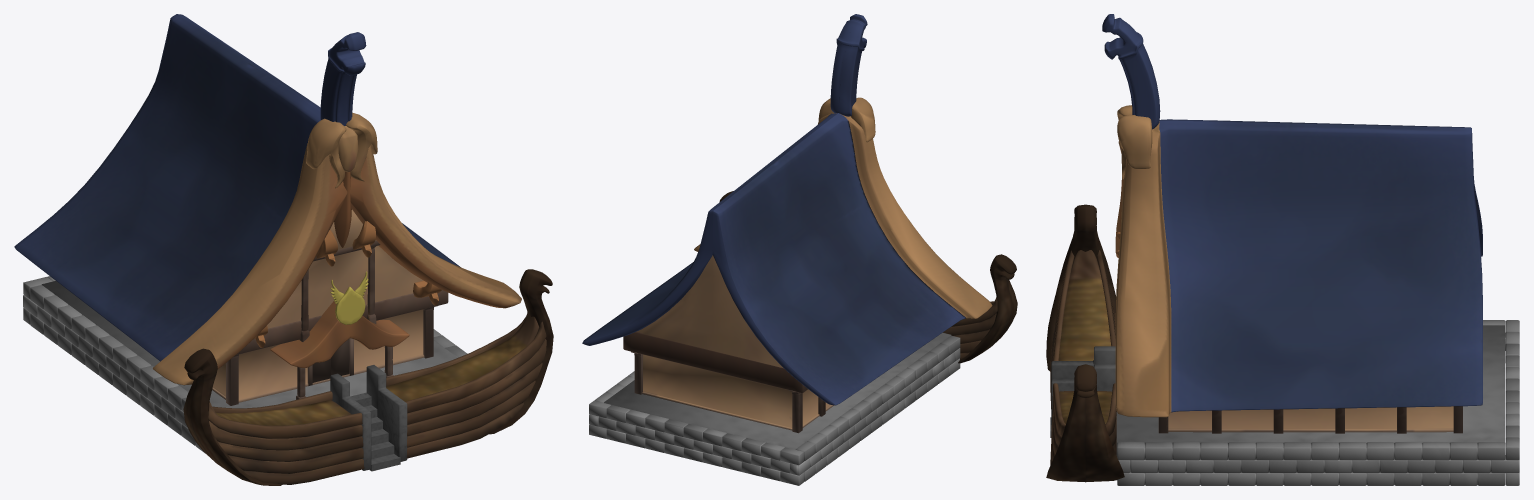
File: GladsheimHall.glb
The picture shows the model from 3 angles, left to right: view 1: azimuth 30°, elevation 25°; view 2: azimuth 150°, elevation 25°; view 3: azimuth 270°, elevation 25°; orthographic projection. The views are drawn at different scales.
Visible parts, largest first — view 1: GladsheimHall; view 2: GladsheimHall; view 3: GladsheimHall.
Part boxes in pixels (x1=…): GladsheimHall: x1=14, y1=14, x2=553, y2=485; GladsheimHall: x1=582, y1=14, x2=1017, y2=485; GladsheimHall: x1=1046, y1=14, x2=1519, y2=485.
Size of the model in its own units: 36.04 by 39.1 by 40.46.
2 materials, 2 textured.
